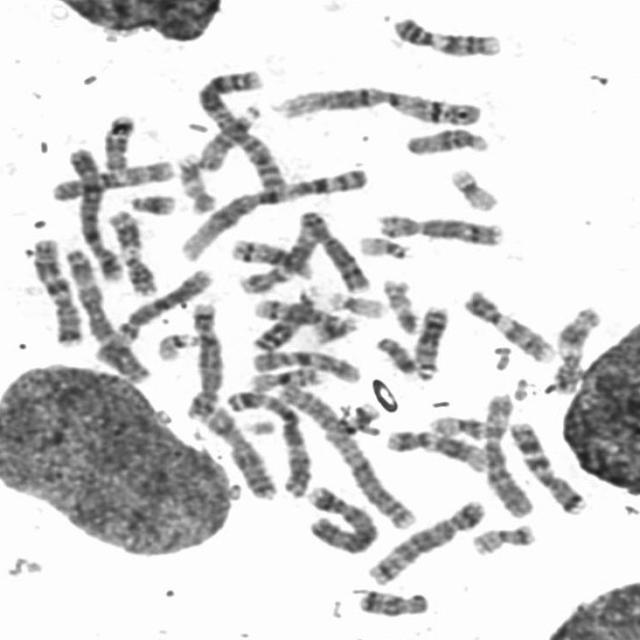A1: (173, 160, 374, 262), (270, 77, 486, 127)
A2: (272, 376, 423, 531), (189, 62, 291, 198)
A3: (58, 241, 156, 385), (220, 383, 316, 499)
B4: (61, 139, 126, 282), (299, 477, 382, 555)
B5: (361, 493, 488, 587), (179, 296, 225, 421)
C10: (44, 152, 176, 202), (245, 342, 363, 384)
C11: (99, 202, 160, 297), (545, 299, 604, 394)
C12: (234, 217, 324, 297), (378, 422, 492, 473)
C6: (86, 262, 215, 367), (477, 386, 537, 520)
C7: (501, 414, 591, 516), (24, 230, 86, 348)
C8: (291, 203, 374, 294), (370, 206, 507, 247)
C9: (456, 282, 558, 364), (383, 8, 506, 59)
D13: (246, 280, 324, 354), (408, 298, 453, 381)
D14: (224, 232, 317, 280), (248, 292, 344, 327)
D15: (190, 98, 265, 172), (398, 121, 494, 157)
E16: (243, 360, 326, 392), (323, 402, 382, 444)
E17: (170, 145, 220, 215), (376, 271, 424, 335)
E18: (349, 582, 432, 619), (94, 107, 138, 173)
F19: (442, 160, 502, 213), (321, 284, 389, 319)
F20: (464, 517, 538, 557), (423, 408, 495, 441)
G21: (305, 309, 361, 346), (122, 186, 178, 217)
G22: (352, 228, 414, 260), (149, 325, 201, 362)
X: (196, 401, 282, 501)
Y: (373, 336, 418, 376)
